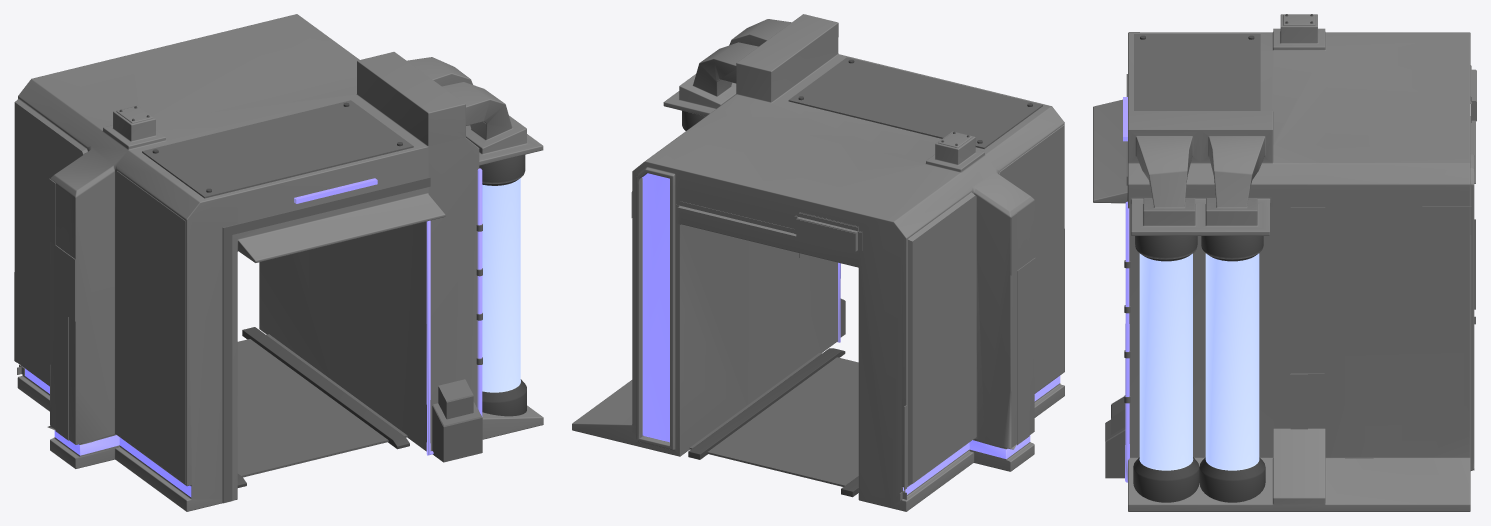
Rendered from gate.glb.
3 renders of one model, left to right at view 1: azimuth 30°, elevation 25°; view 2: azimuth 150°, elevation 25°; view 3: azimuth 270°, elevation 25°, orthographic. The views are drawn at different scales.
Visible parts, largest first — view 1: Cube, Cube_RPanel, Cube.007, Cube.002, Cylinder.002, Cube.001, Cube_RExtr, Cube.005, Cube.003, Cube_RPipes, Cube.006; view 2: Cube, Cube_RPanel, Cube.002, Cube.007, Cube_RExtr, Cube_RExtr.001, Cube.003; view 3: Cube, Cylinder.002, Cube.007, Cube_RExtr.002, Cube.005, Cube_RPipes, Cube_RExtr.001.
Part boxes in pixels (x1,y1,x2,y2): Cube: [17, 14, 543, 511]; Cube_RPanel: [14, 98, 185, 483]; Cube.007: [142, 100, 413, 198]; Cube.002: [237, 334, 407, 477]; Cylinder.002: [479, 155, 526, 416]; Cube.001: [222, 177, 430, 503]; Cube_RExtr: [49, 178, 75, 440]; Cube.005: [432, 379, 482, 462]; Cube.003: [242, 327, 409, 449]; Cube_RPipes: [426, 168, 482, 455]; Cube.006: [294, 178, 377, 203]; Cube: [572, 14, 1064, 511]; Cube_RPanel: [907, 125, 1064, 485]; Cube.002: [689, 353, 858, 486]; Cube.007: [788, 57, 1042, 148]; Cube_RExtr: [1010, 213, 1035, 445]; Cube_RExtr.001: [676, 201, 906, 500]; Cube.003: [688, 348, 845, 459]; Cube: [1093, 14, 1474, 511]; Cylinder.002: [1133, 236, 1265, 502]; Cube.007: [1134, 34, 1260, 110]; Cube_RExtr.002: [1290, 206, 1471, 458]; Cube.005: [1105, 396, 1125, 478]; Cube_RPipes: [1125, 201, 1129, 482]; Cube_RExtr.001: [1470, 65, 1476, 324].
Size of what is drawn, in the model's own units: 9.89 by 8.06 by 8.09.
